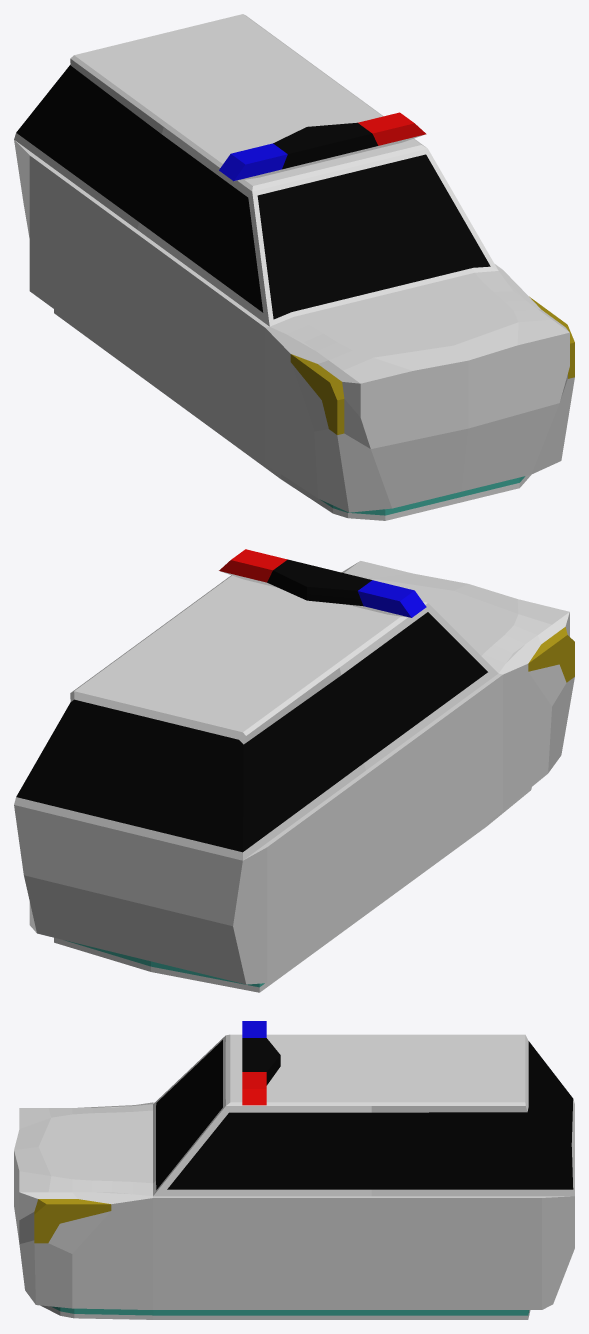
File: Car_CD4(police).fbx
3 renders of one model, top to bottom at view 1: azimuth 30°, elevation 25°; view 2: azimuth 150°, elevation 25°; view 3: azimuth 270°, elevation 25°, orthographic. The views are drawn at different scales.
Visible parts, largest first — view 1: Cube; view 2: Cube; view 3: Cube.
Part boxes in pixels (<box>): Cube: <box>14,14,574,520</box>; Cube: <box>14,549,574,992</box>; Cube: <box>14,1021,574,1319</box>.
Size of the model in its own units: 366 by 399 by 907.
